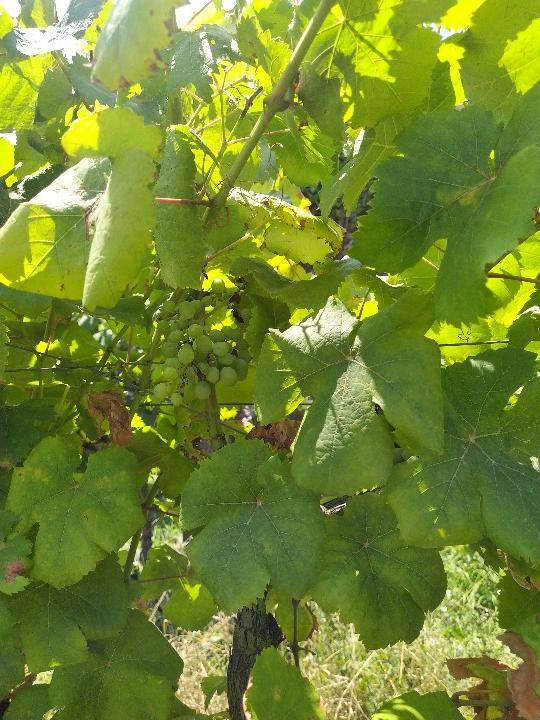grape: (150, 275, 253, 408)
